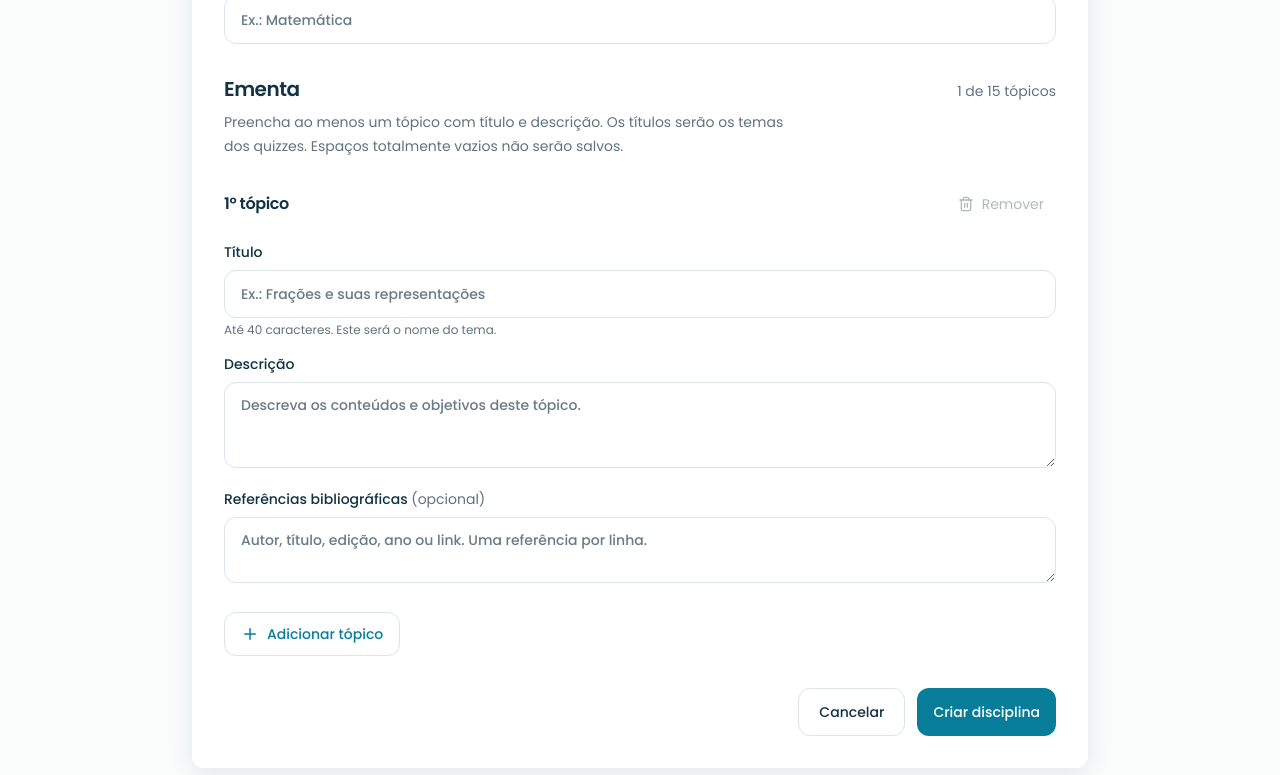
Test case: exige tópico completo e salva referências, descartando o segundo tópico vazio
The width and height of the screenshot is (1280, 775).
Later steps or results of the test are not shown.
(page scrolled)
Click the button "Adicionar tópico" at x=312, y=634, box [224,612,400,656]
(page scrolled)
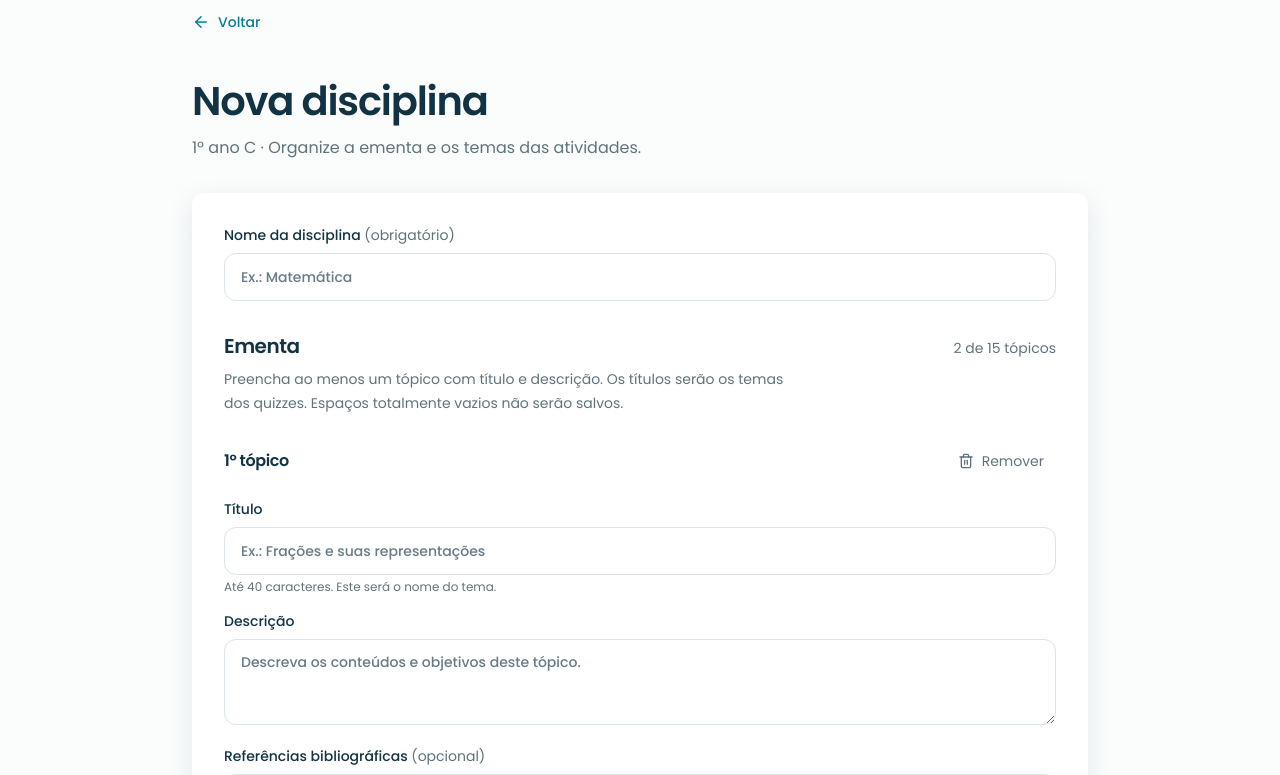
Type " Matemática " into the field labelled "Nome da disciplina (obrigatório)" at x=640, y=277, box [224,253,1056,301]
(page scrolled)
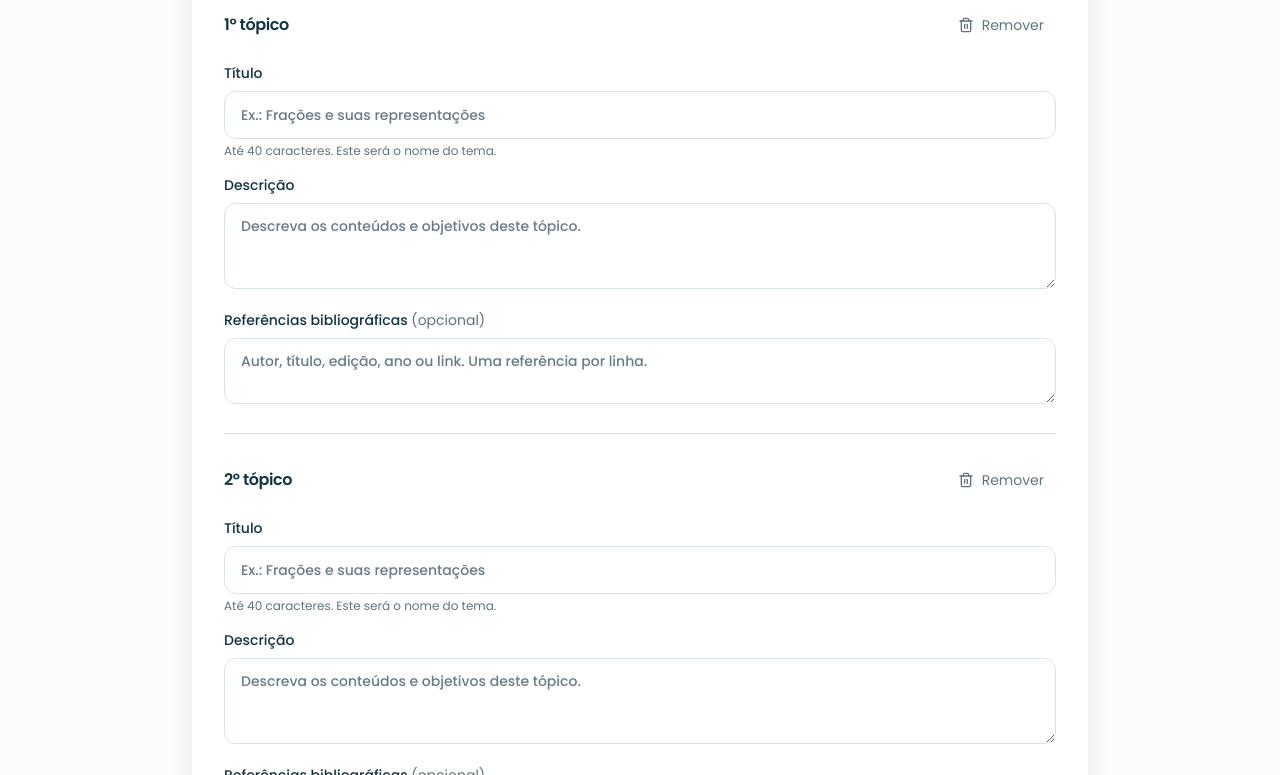
Submit the form named "Criar disciplina"
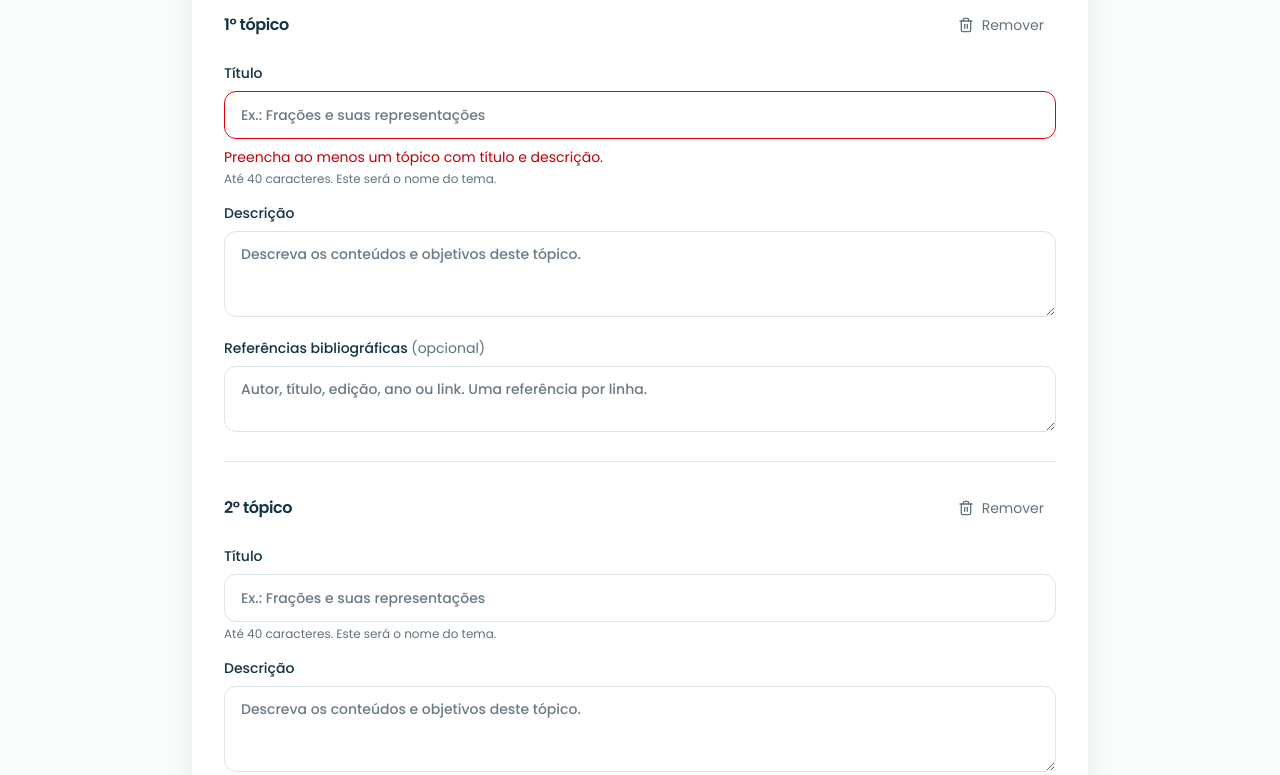
Expected: the message shows "ao menos um tópico", [224,147,603,167]
Type "Frações" into the 1st field labelled "Título" at x=640, y=115, box [224,91,1056,139]
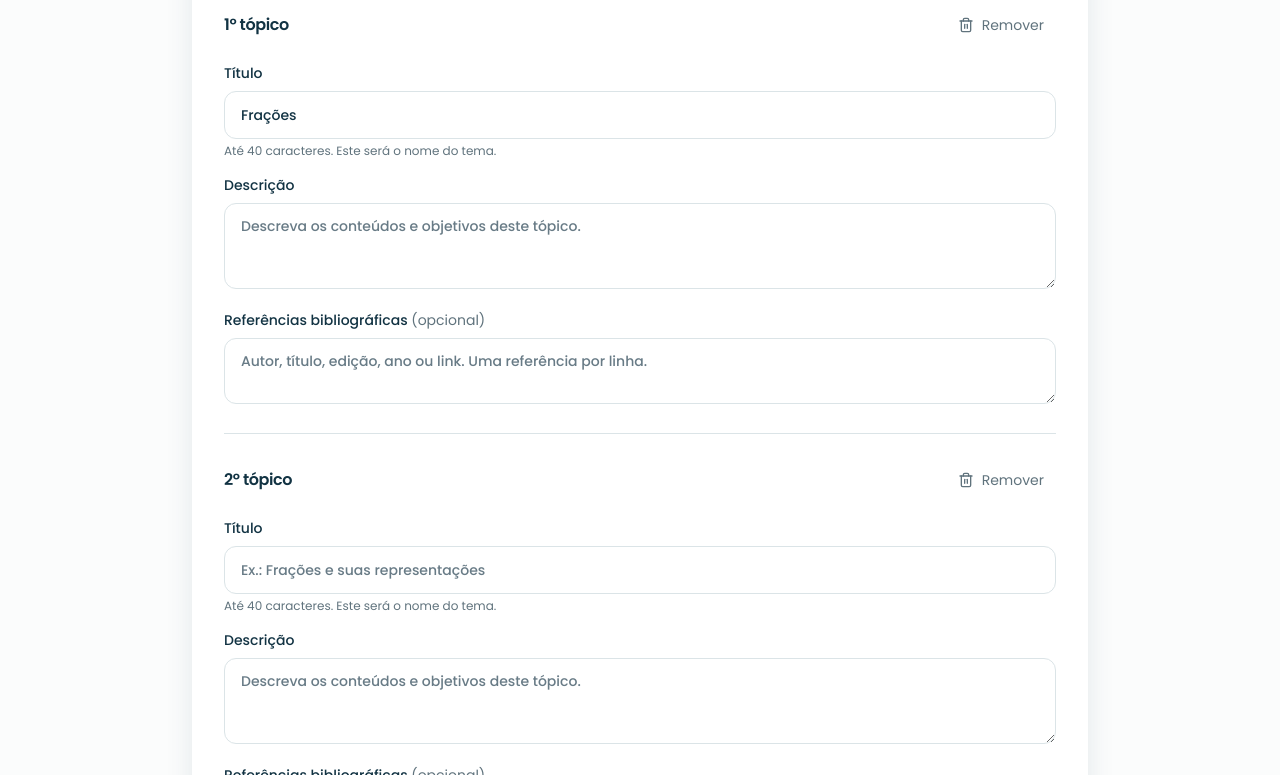
Submit the form named "Criar disciplina"
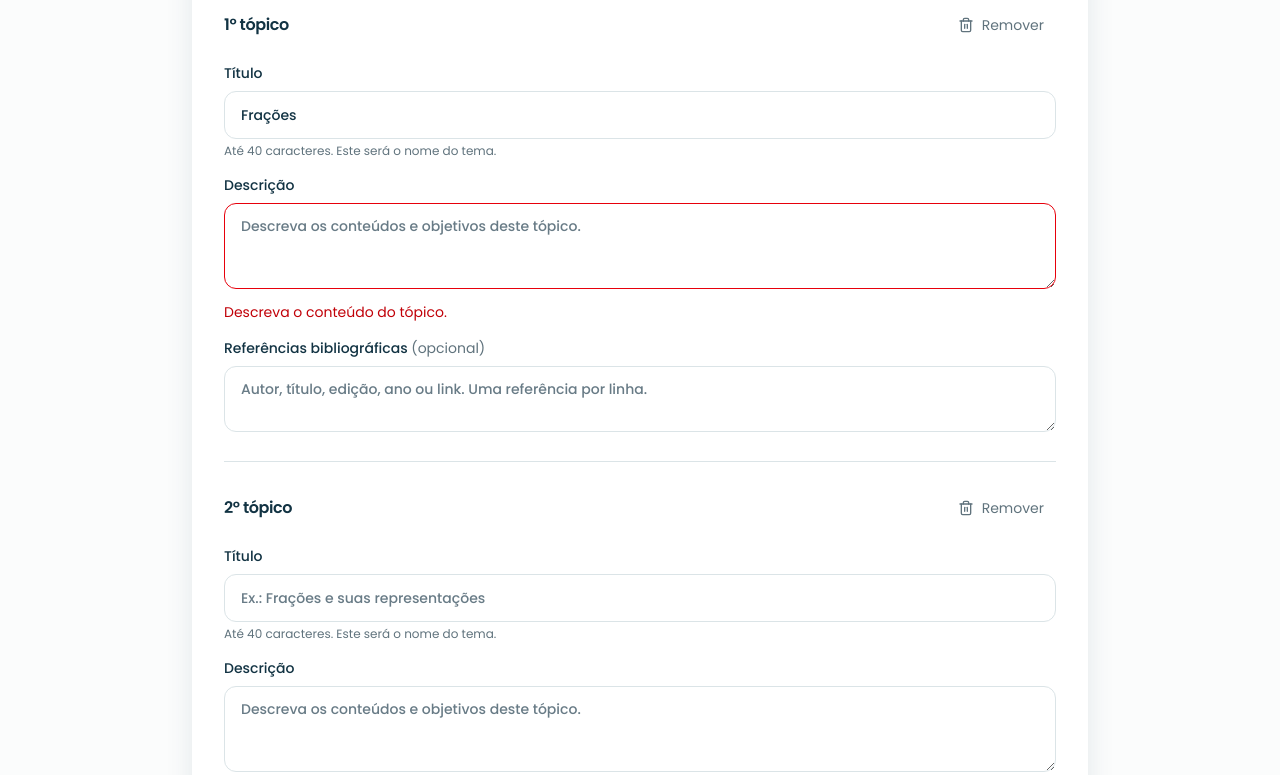
Expected: the message shows "Descreva", [224,302,447,322]
